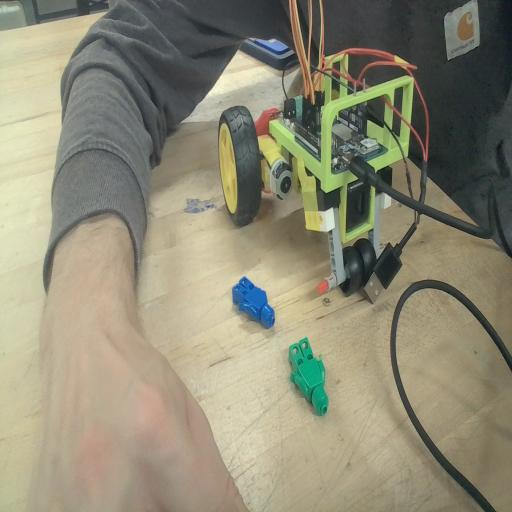blue LEGO minifig: (230, 270, 276, 333)
green LEGO minifig: (289, 334, 331, 420)
